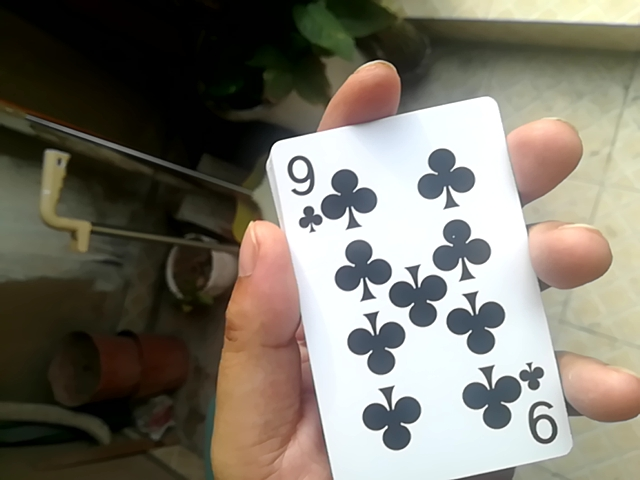mh 9: (270, 92, 568, 480)
